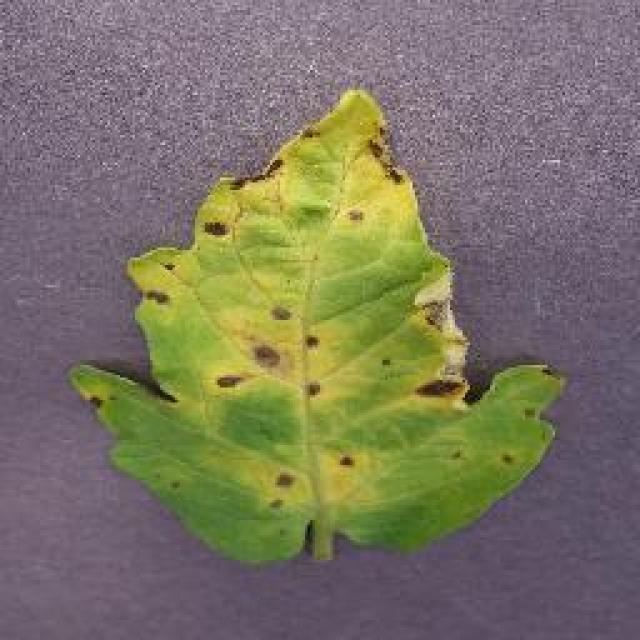Tomato Septoria spot leaf: (67, 89, 567, 568)
